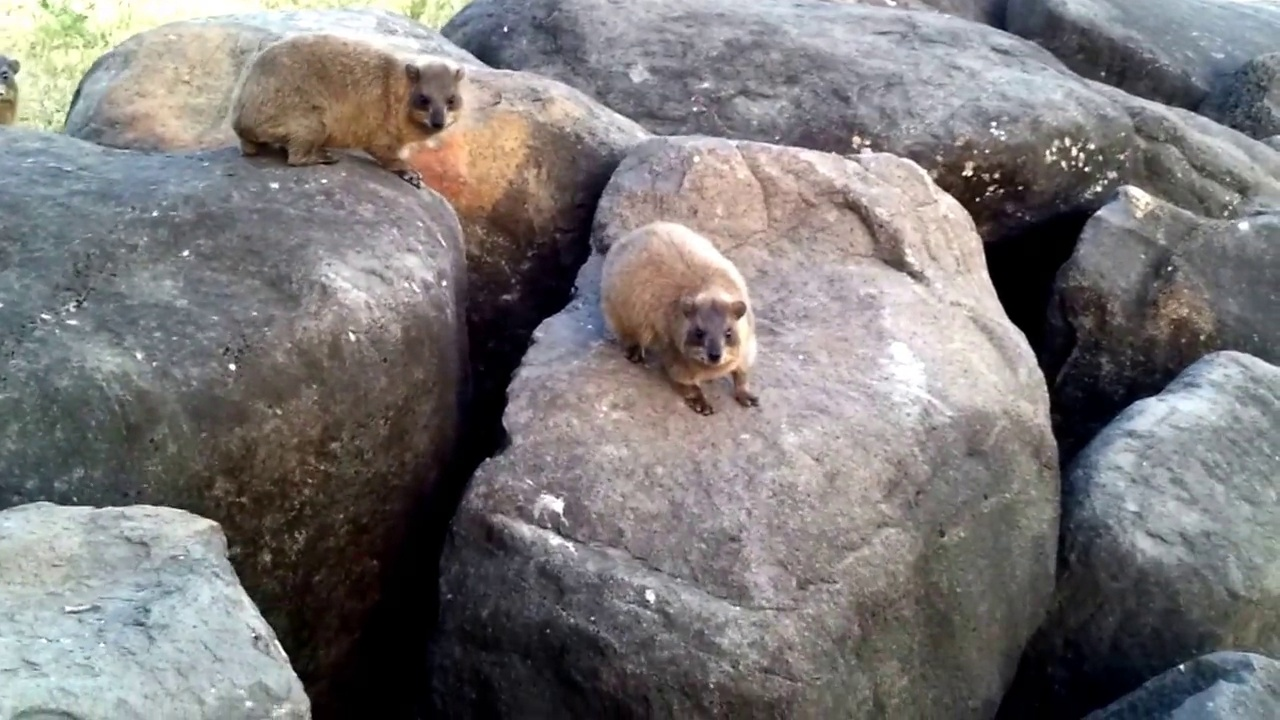Rock Hyrex: (225, 31, 466, 193), (597, 218, 766, 415), (1, 44, 19, 134)
